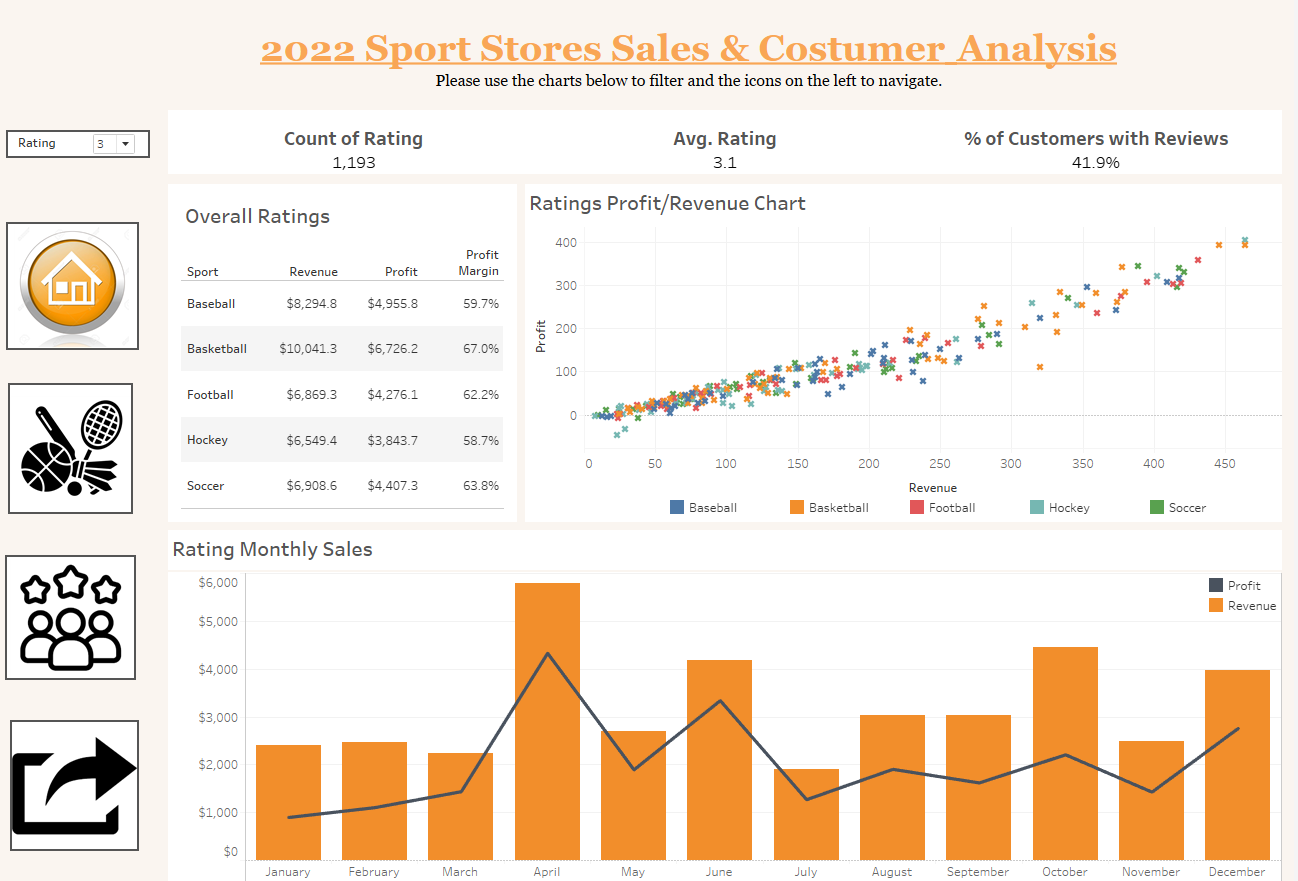

The dashboard page shown, as its layout file describes it:
{"tool":"tableau","page":{"name":"Ratings Dashboard","canvas":[1000,1000],"units":"permille","ordinal":1},"visuals":[{"type":"blank","box":[6.2,8.9,69.2,115.5]},{"type":"text","box":[75.4,8.9,918.5,115.5]},{"type":"blank","box":[6.2,124.4,124.6,67.8]},{"type":"worksheet","title":"Rating KPIs","mark":"Automatic","box":[130.7,124.4,863.1,82.2]},{"type":"parameter","param":"[Parameters].[Parameter 1]","box":[3.1,142.2,123.1,48.9]},{"type":"blank","box":[6.2,192.2,100,57.8]},{"type":"blank","box":[106.1,192.2,24.6,798.9]},{"type":"worksheet","title":"Overall Ratings","mark":"Automatic","rows":["sport"],"box":[130.8,206.7,274.6,384.4]},{"type":"worksheet","title":"Ratings Profit/Revenue Chart","mark":"Automatic","rows":["profit"],"cols":["revenue"],"box":[405.4,206.7,588.5,385]},{"type":"dashboard-object","box":[6.2,250,100,141.1]},{"type":"blank","box":[6.2,391.1,100,70]},{"type":"dashboard-object","box":[6.2,517.8,100,128.9]},{"type":"legend","title":"Ratings Profit/Revenue Chart","param":"[federated.03v9cta0f66vx712u9ero086uhm3].[none:sport:nk]","box":[517.7,558.9,477.7,32.2]},{"type":"worksheet","title":"Rating Monthly Sales","mark":"Bar","rows":["revenue","profit"],"cols":["date"],"box":[130.7,591.7,863.1,399.4]},{"type":"blank","box":[6.2,646.7,100,142.2]},{"type":"dashboard-object","box":[6.2,788.9,100,127.8]}]}

Visuals, with their boxes on the dashboard's canvas, which has no fixed pixel size, in thousandths of its width and height (x1, y1, x2, y2). These are canvas units, not pixel positions in the 1298x881 screenshot, which may show the page scaled, cropped or inside an application window:
blank: [x1=6, y1=9, x2=75, y2=124]
text: [x1=75, y1=9, x2=994, y2=124]
blank: [x1=6, y1=124, x2=131, y2=192]
"Rating KPIs" worksheet: [x1=131, y1=124, x2=994, y2=207]
parameter: [x1=3, y1=142, x2=126, y2=191]
blank: [x1=6, y1=192, x2=106, y2=250]
blank: [x1=106, y1=192, x2=131, y2=991]
"Overall Ratings" worksheet: [x1=131, y1=207, x2=405, y2=591]
"Ratings Profit/Revenue Chart" worksheet: [x1=405, y1=207, x2=994, y2=592]
dashboard-object: [x1=6, y1=250, x2=106, y2=391]
blank: [x1=6, y1=391, x2=106, y2=461]
dashboard-object: [x1=6, y1=518, x2=106, y2=647]
"Ratings Profit/Revenue Chart" legend: [x1=518, y1=559, x2=995, y2=591]
"Rating Monthly Sales" worksheet (Bar marks): [x1=131, y1=592, x2=994, y2=991]
blank: [x1=6, y1=647, x2=106, y2=789]
dashboard-object: [x1=6, y1=789, x2=106, y2=917]
